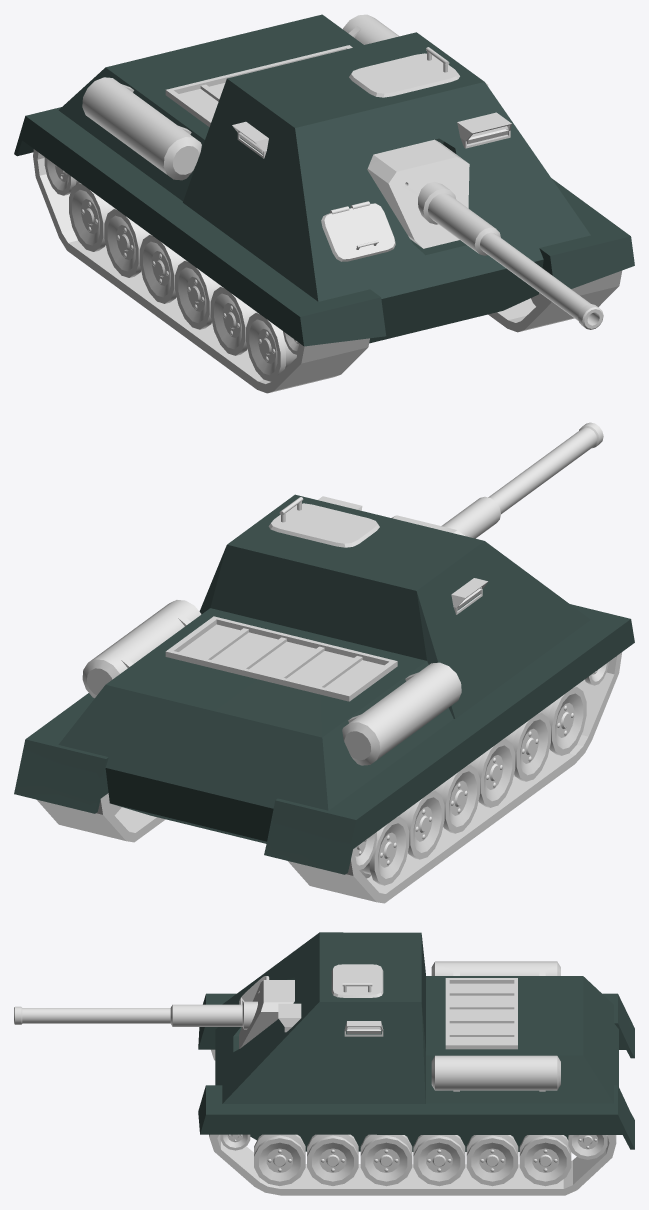
3 views of the same model, one above another, from view 1: azimuth 30°, elevation 25°; view 2: azimuth 150°, elevation 25°; view 3: azimuth 270°, elevation 25° (orthographic). The views are drawn at different scales.
Visible parts, largest first — view 1: Chassis, SkirtR, TrackR, Mantlet, TankR, Gun, SkirtL, Lid001, Lid, TrackL, Grate, Wheel002 (+9 smaller); view 2: Chassis, SkirtR, Grate, TrackR, SkirtL, TankR, Gun, TankL, Lid, TrackL, Wheel006, Wheel005 (+5 smaller); view 3: Chassis, SkirtL, TrackL, Grate, TankL, Gun, Wheel015, Wheel014, Wheel016, Wheel019, Wheel017, Wheel018 (+8 smaller).
Part boxes in pixels (box(x1,y1,x2,y2)): Chassis: box(58, 14, 590, 343); SkirtR: box(14, 107, 386, 346); TrackR: box(33, 149, 369, 393); Mantlet: box(367, 139, 469, 248); TankR: box(82, 77, 201, 180); Gun: box(418, 182, 603, 329); SkirtL: box(539, 178, 634, 288); Lid001: box(321, 203, 395, 261); Lid: box(349, 53, 459, 97); TrackL: box(488, 270, 622, 332); Grate: box(165, 45, 352, 126); Wheel002: box(246, 312, 296, 381); Chassis: box(58, 494, 590, 843); SkirtR: box(264, 604, 634, 874); Grate: box(165, 616, 397, 701); TrackR: box(288, 652, 622, 903); SkirtL: box(14, 693, 108, 813); TankR: box(342, 662, 461, 765); Gun: box(441, 422, 603, 538); TankL: box(82, 600, 201, 698); Lid: box(268, 503, 379, 547); TrackL: box(37, 795, 165, 842); Wheel006: box(359, 816, 409, 885); Wheel005: box(434, 764, 480, 833); Chassis: box(215, 932, 618, 1151); SkirtL: box(198, 1085, 634, 1149); TrackL: box(209, 1134, 616, 1195); Grate: box(445, 978, 517, 1049); TankL: box(431, 1055, 560, 1091); Gun: box(14, 1001, 257, 1029); Wheel015: box(307, 1134, 358, 1185); Wheel014: box(254, 1134, 305, 1185); Wheel016: box(360, 1134, 412, 1186); Wheel019: box(466, 1135, 518, 1186); Wheel017: box(413, 1135, 465, 1186); Wheel018: box(519, 1135, 571, 1186).
Size of the model in its own units: 37.64 by 26.22 by 81.61.
